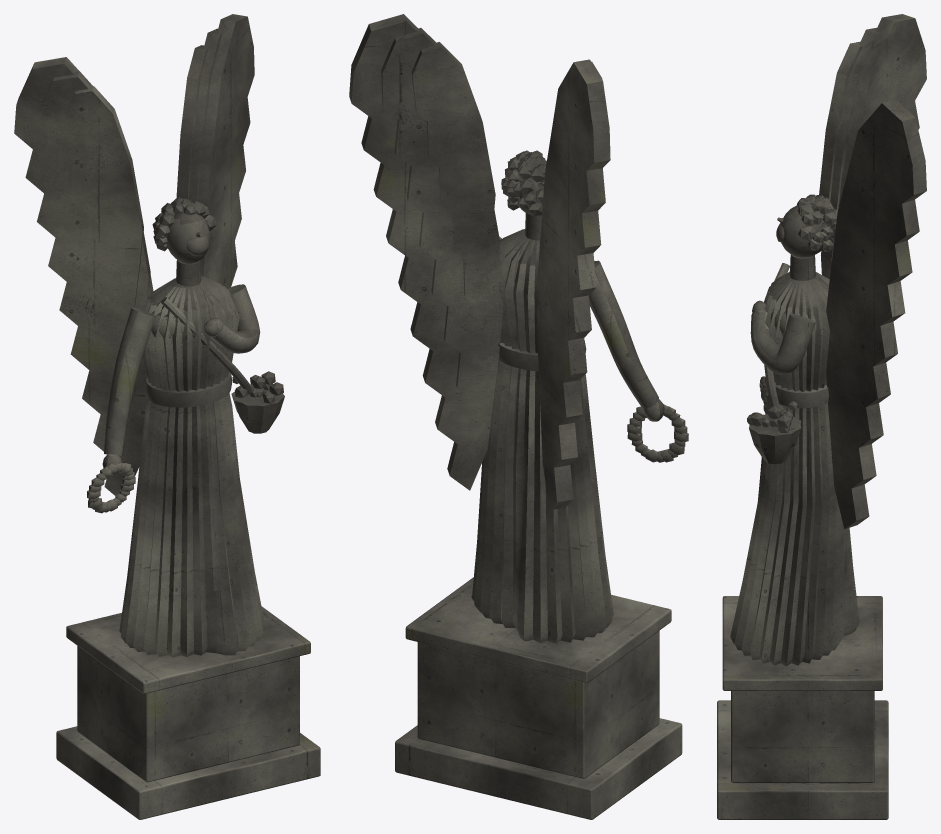
Rendered from Statue_Angel_Wreath.gltf.
3 views of the same model, side by side, from view 1: azimuth 30°, elevation 25°; view 2: azimuth 150°, elevation 25°; view 3: azimuth 270°, elevation 25° (orthographic). The views are drawn at different scales.
Visible parts, largest first — view 1: Statue_Angel_Wreath_Figure, Statue_Angel_Wreath_Pedestal, Statue_Angel_Wreath_Head; view 2: Statue_Angel_Wreath_Figure, Statue_Angel_Wreath_Pedestal, Statue_Angel_Wreath_Head; view 3: Statue_Angel_Wreath_Figure, Statue_Angel_Wreath_Pedestal, Statue_Angel_Wreath_Head.
Boxes of the visible parts, left/top/right/bottom form: Statue_Angel_Wreath_Figure: left=14, top=14, right=284, bottom=657; Statue_Angel_Wreath_Pedestal: left=56, top=606, right=320, bottom=819; Statue_Angel_Wreath_Head: left=152, top=197, right=216, bottom=263; Statue_Angel_Wreath_Figure: left=349, top=14, right=688, bottom=643; Statue_Angel_Wreath_Pedestal: left=395, top=577, right=682, bottom=819; Statue_Angel_Wreath_Head: left=501, top=150, right=546, bottom=216; Statue_Angel_Wreath_Figure: left=730, top=14, right=926, bottom=666; Statue_Angel_Wreath_Pedestal: left=717, top=596, right=888, bottom=819; Statue_Angel_Wreath_Head: left=776, top=194, right=837, bottom=257.
Size of what is drawn, in the model's own units: 1.03 by 2.85 by 0.7586.
Materials: 1 (1 with a texture image).
